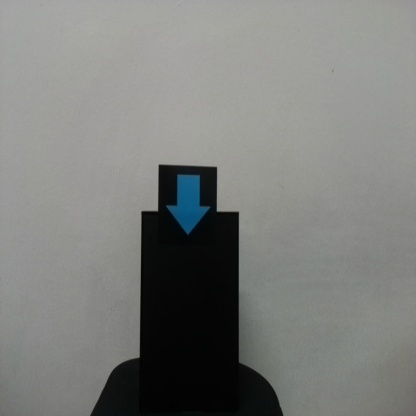id_2: (158, 165, 218, 245)
